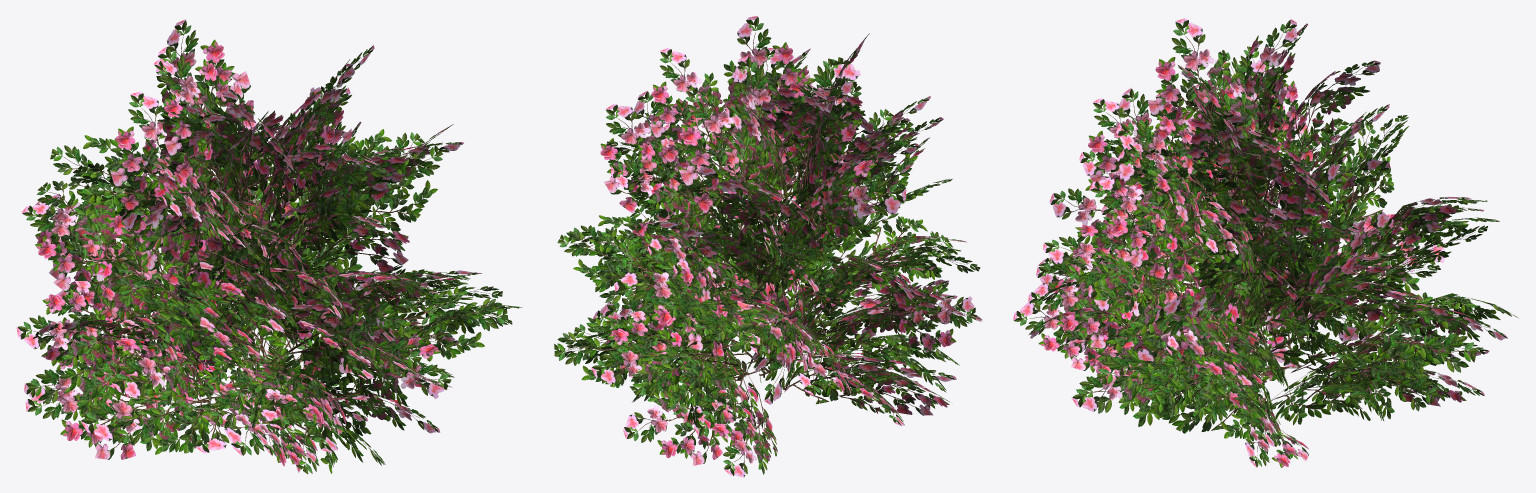
File: Azalea_LowPoly.fbx
3 views of the same model, side by side, from view 1: azimuth 30°, elevation 25°; view 2: azimuth 150°, elevation 25°; view 3: azimuth 270°, elevation 25° (orthographic). The views are drawn at different scales.
Visible parts, largest first — view 1: Azalea_Mobile_Flowers_2; view 2: Azalea_Mobile_Flowers_2; view 3: Azalea_Mobile_Flowers_2.
Part boxes in pixels (left/top/right/bottom): Azalea_Mobile_Flowers_2: left=16, top=19, right=522, bottom=474; Azalea_Mobile_Flowers_2: left=554, top=16, right=982, bottom=477; Azalea_Mobile_Flowers_2: left=1013, top=18, right=1517, bottom=467.
Size of the model in its own units: 0.4381 by 0.3582 by 0.452.
2 materials, 2 textured.
